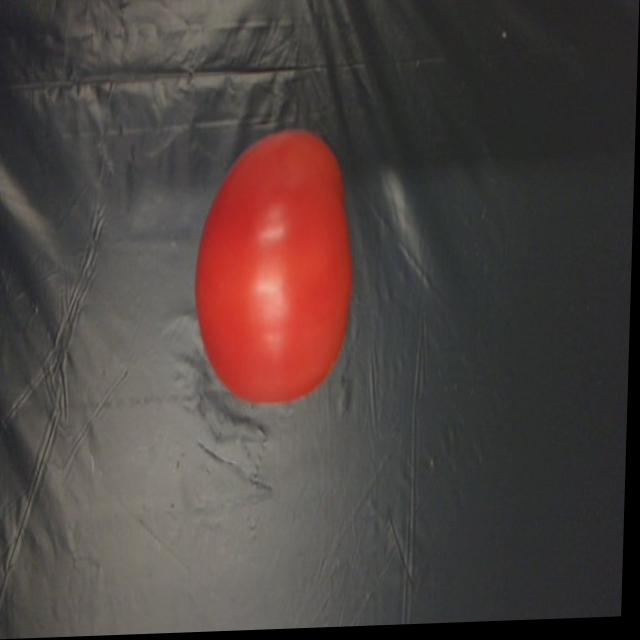kirmizi: (171, 117, 370, 417)
